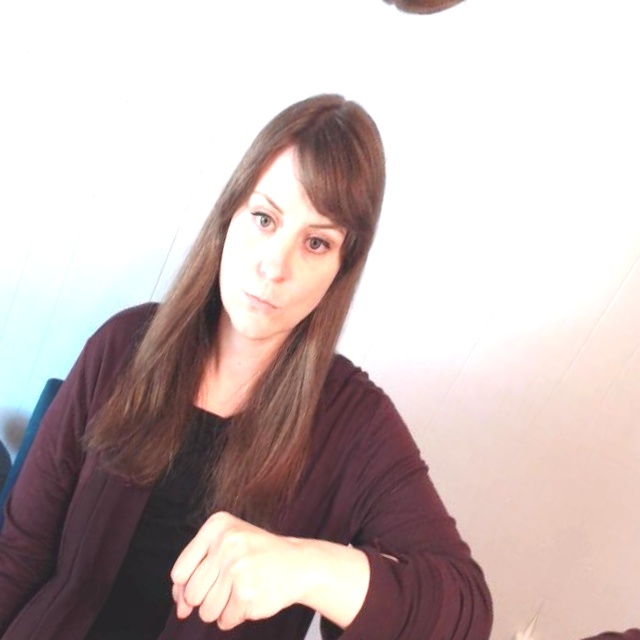Rock: (150, 477, 324, 640)
